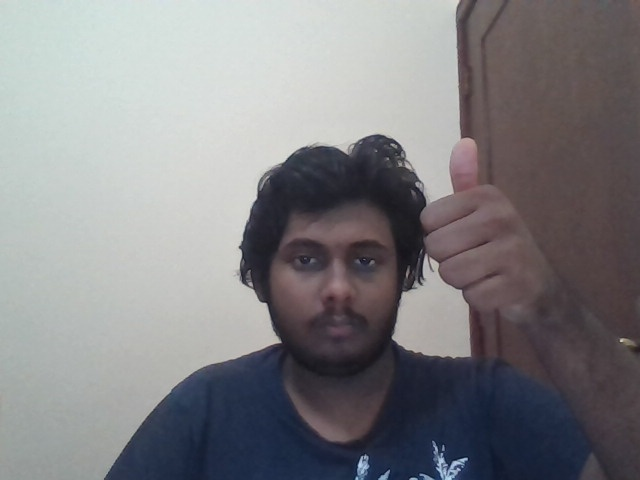thumbsup: (419, 137, 546, 322)
